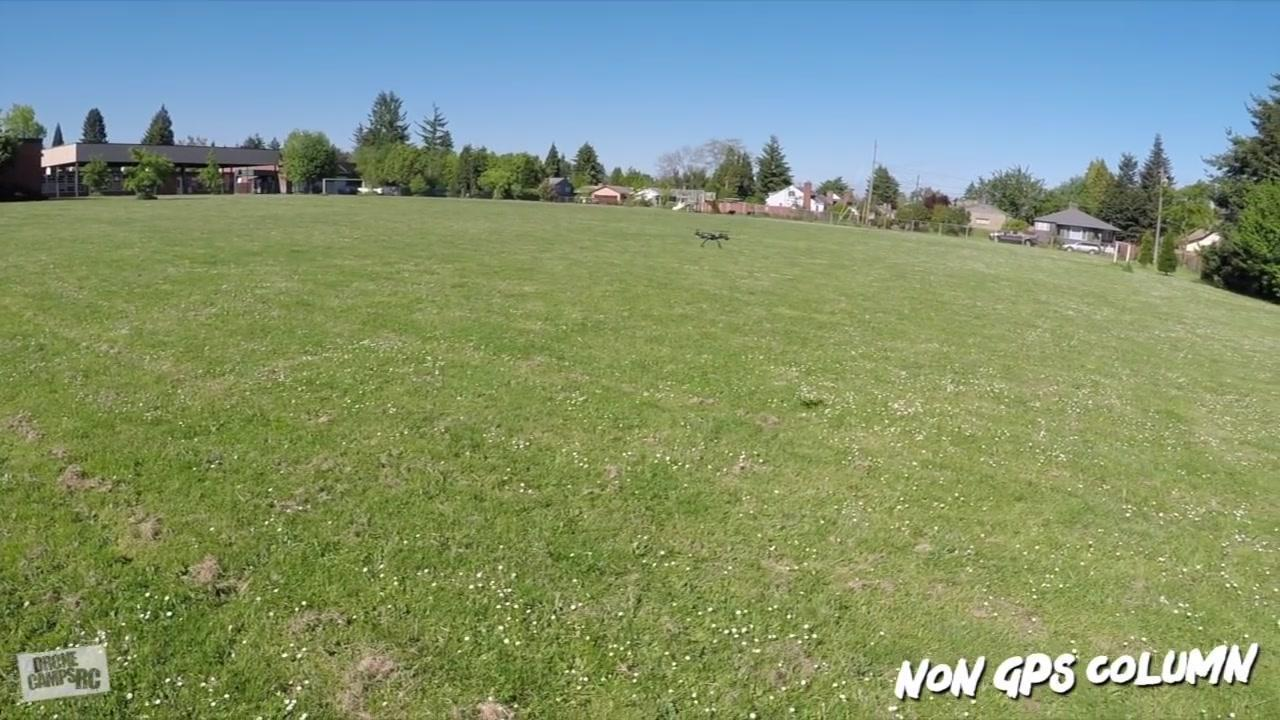UAV: (695, 230, 733, 250)
